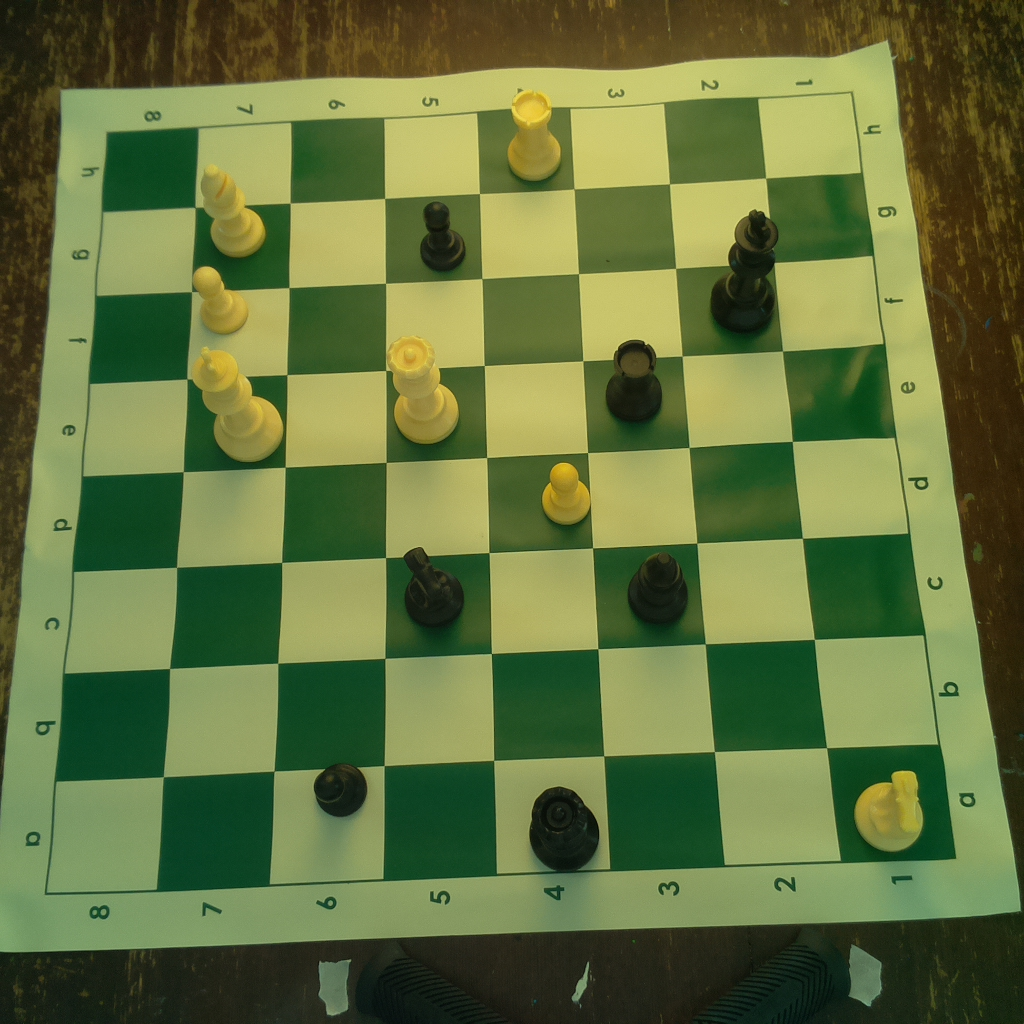black_bishop: (624, 549, 693, 626)
black_king: (707, 209, 780, 338)
black_knight: (392, 543, 466, 627)
black_pawn: (415, 197, 473, 273), (311, 760, 371, 821)
black_queen: (528, 784, 605, 873)
black_rook: (598, 335, 667, 423)
file_a: (45, 744, 959, 893)
file_b: (54, 635, 941, 780)
file_c: (67, 534, 927, 671)
file_d: (75, 436, 911, 574)
file_e: (83, 343, 896, 478)
file_f: (89, 256, 881, 383)
file_g: (96, 173, 876, 297)
file_h: (102, 91, 860, 212)
outline: (45, 91, 959, 897)
rank_1: (758, 92, 955, 864)
rank_2: (667, 96, 844, 867)
rank_3: (572, 100, 727, 871)
rank_4: (477, 106, 611, 873)
rank_5: (383, 112, 499, 879)
rank_6: (270, 121, 389, 879)
rank_7: (158, 122, 293, 893)
rank_8: (44, 126, 199, 896)
white_bishop: (197, 162, 270, 258)
white_king: (181, 343, 285, 465)
white_knight: (850, 760, 925, 856)
white_pawn: (189, 264, 254, 338), (542, 456, 592, 527)
white_queen: (385, 331, 460, 448)
white_rook: (499, 84, 566, 183)
